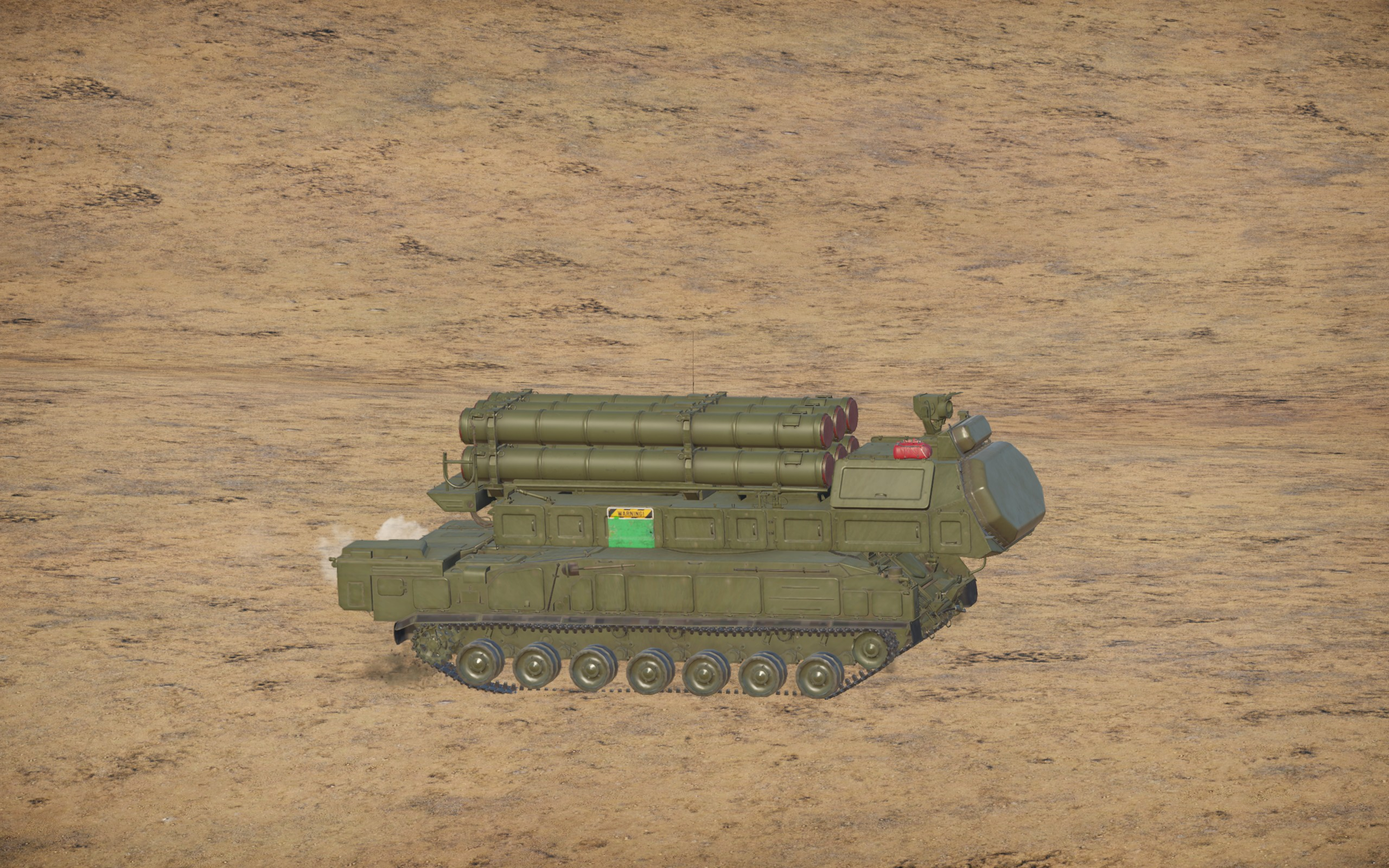BUK_TELAR: (332, 389, 1046, 701)
